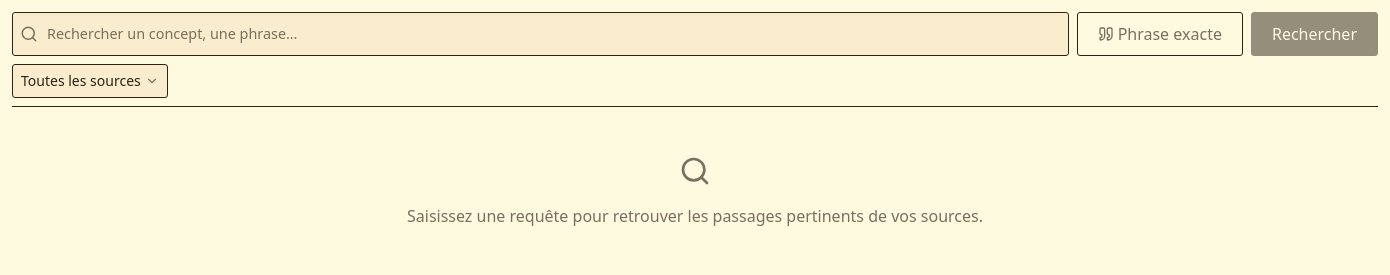
Test: CitationsView › runs a search and renders a result card
Expected: the text "Saisissez une requête" is shown, [407,205,983,227]
Type "neural" into the search field named "Rechercher des citations" at (540, 34), box [12,12,1069,56]
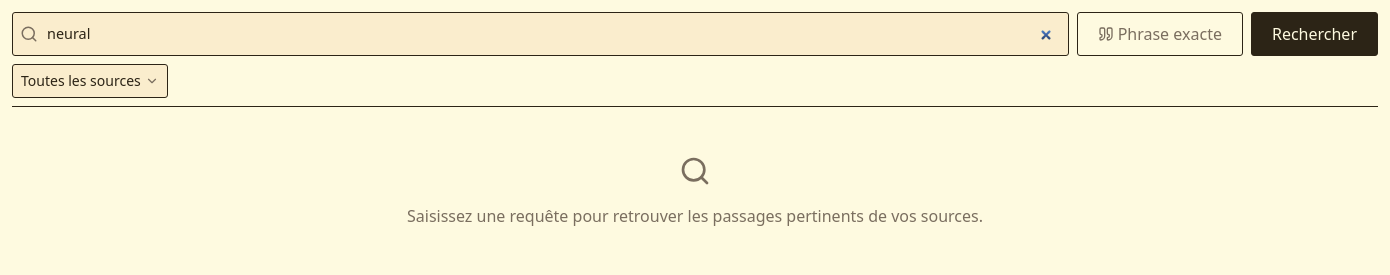
Click the button "Rechercher" at (1314, 34), box [1251,12,1378,56]
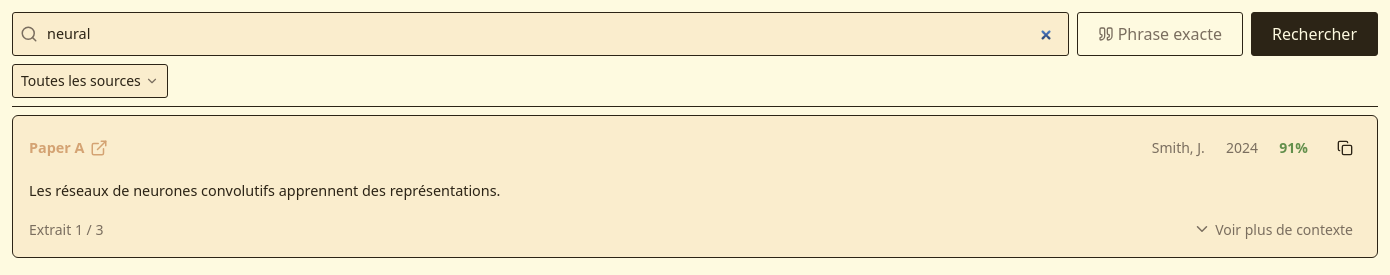
Result: the text "Paper A" is shown at [29,138,85,157]
Result: the text "convolutifs" is shown at [201,181,275,200]
